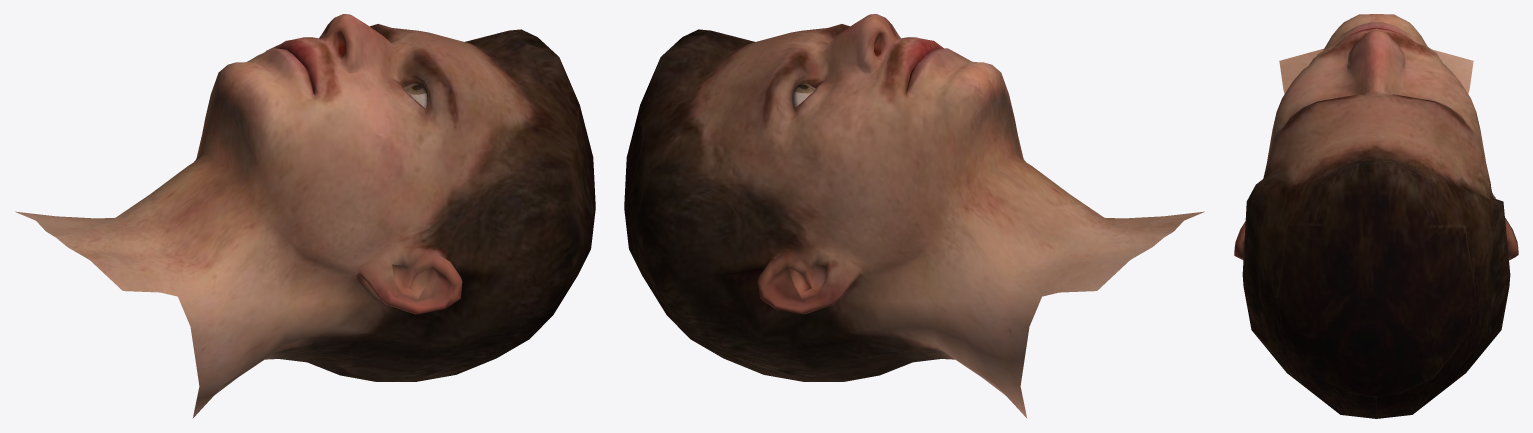
Rendered from head_us_ranger_david.glb.
The picture shows the model from 3 angles, left to right: view 1: azimuth 30°, elevation 25°; view 2: azimuth 150°, elevation 25°; view 3: azimuth 270°, elevation 25°; orthographic projection. The views are drawn at different scales.
Bounding box in the file's own units: 15.35 × 10.4 × 8.14.
Materials: 1 (1 with a texture image).
